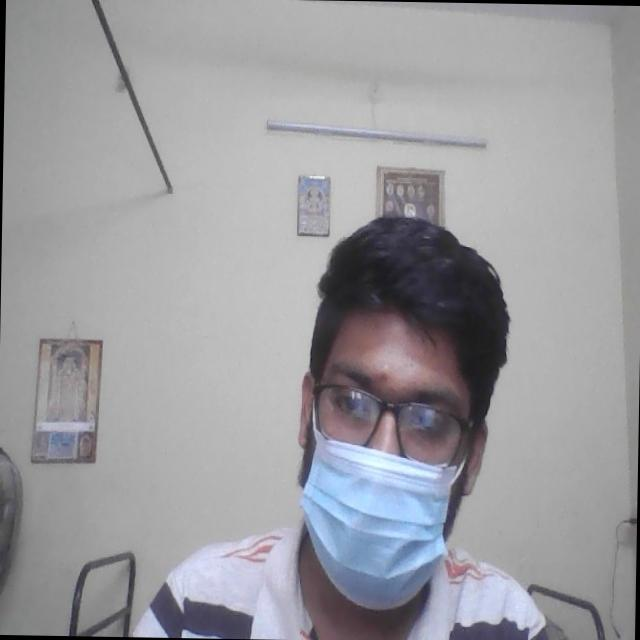Focused: (292, 318, 496, 538)
